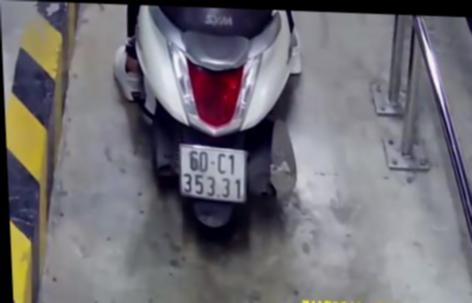License_Plate: (174, 139, 255, 209)
